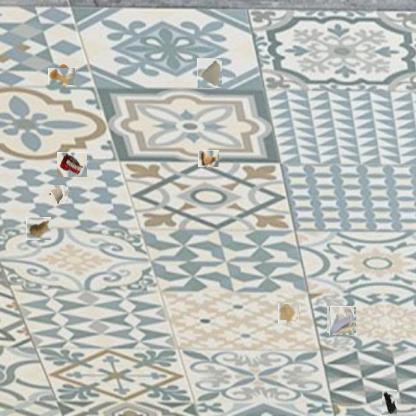dirty: (197, 58, 222, 88), (328, 307, 355, 334), (59, 152, 86, 178), (26, 217, 51, 240), (381, 390, 398, 415), (199, 149, 218, 168), (49, 186, 67, 202)
liquid: (51, 65, 73, 88), (278, 304, 299, 325)
